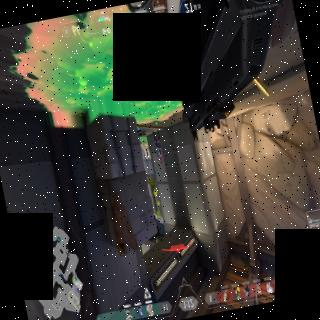ENEMY-BODY: (152, 128, 164, 164)
ENEMY-HEAD: (158, 158, 162, 164)
